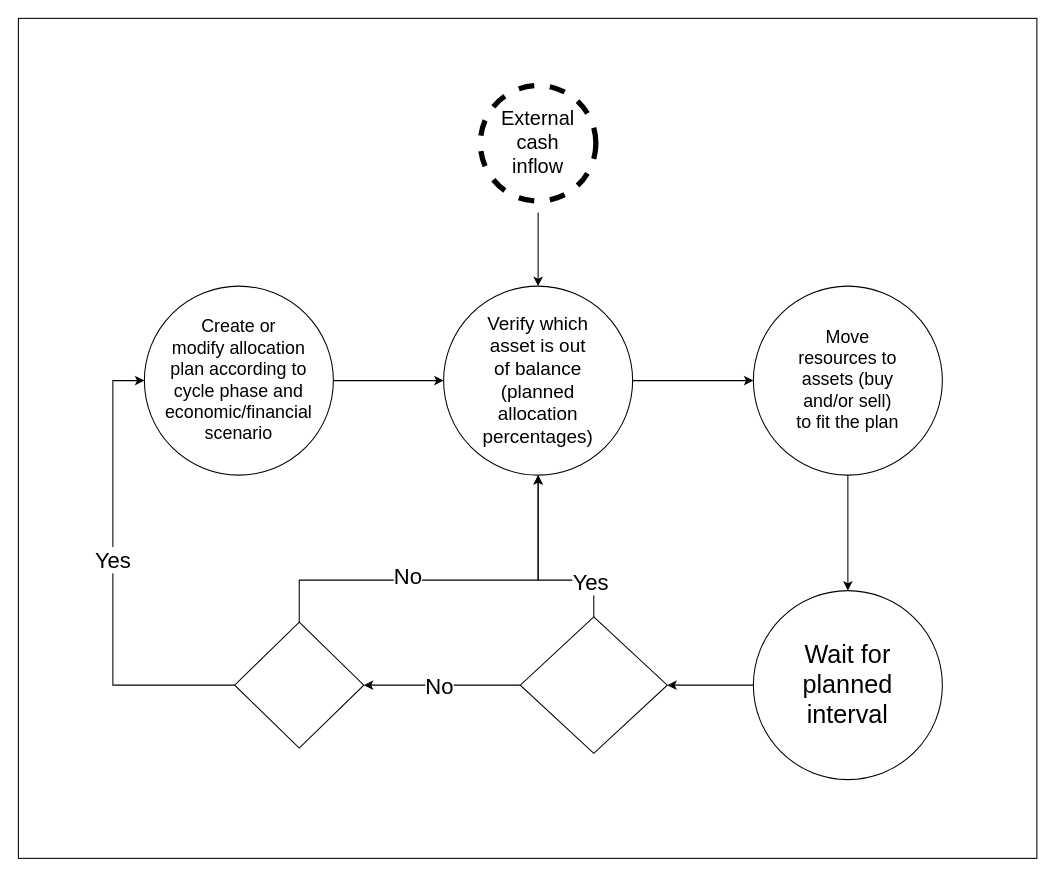
This 1055x877 diagram has some shape labels left out. Each missing label, with the box of its shape:
Big or disruptiv e market fluctuations?: (519, 616, 667, 753)
scenario changed?: (234, 621, 364, 748)
